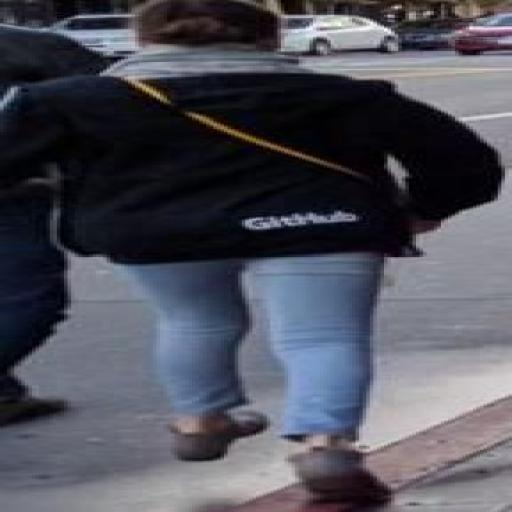person: (0, 0, 501, 503), (0, 163, 67, 426)
